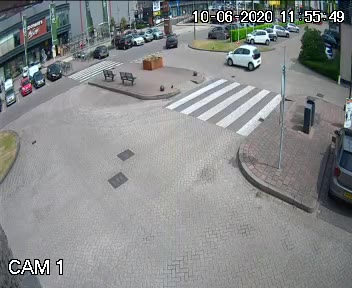car: (222, 42, 265, 74), (160, 32, 182, 47)
